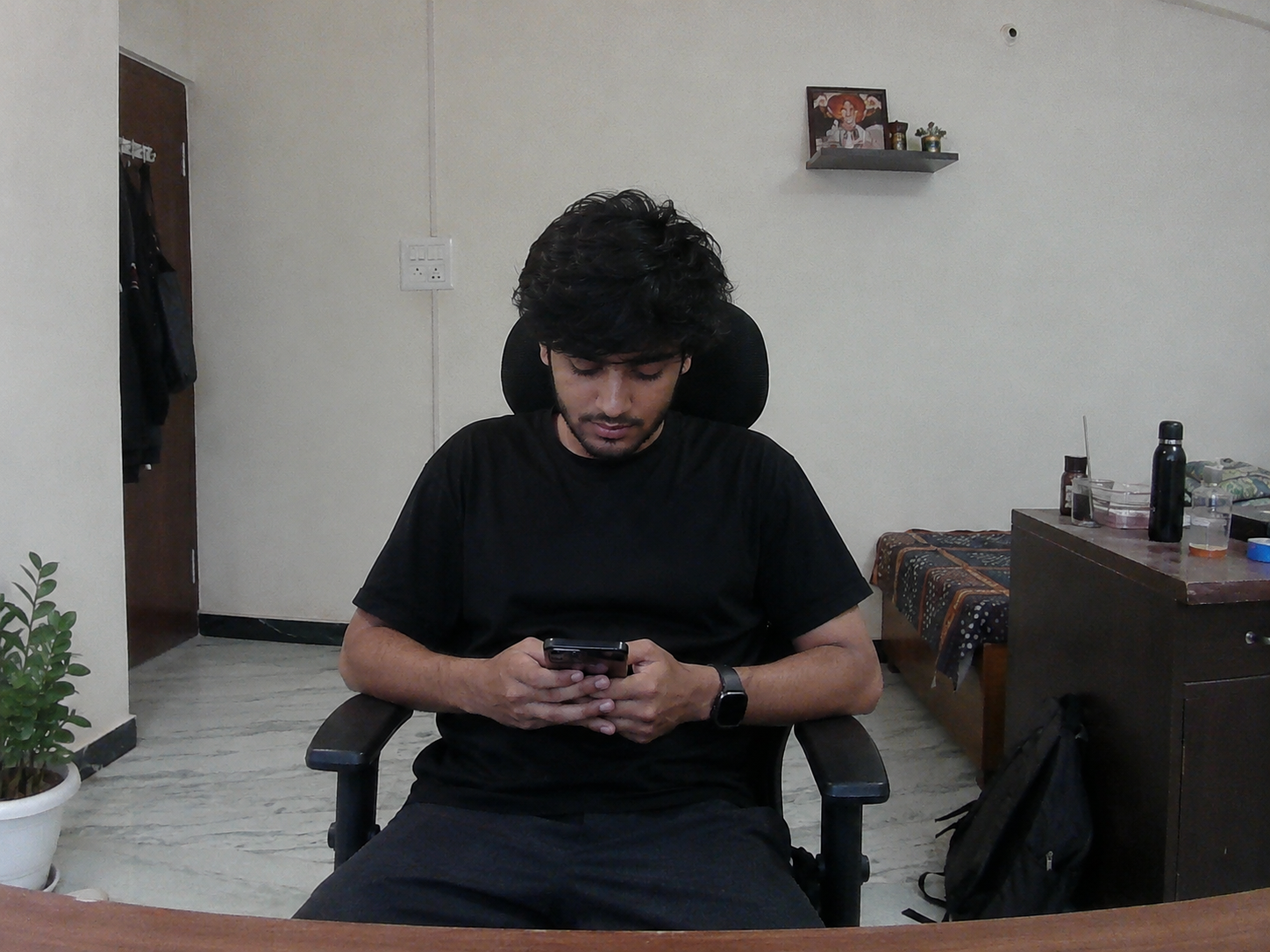distracted: (367, 91, 842, 768)
